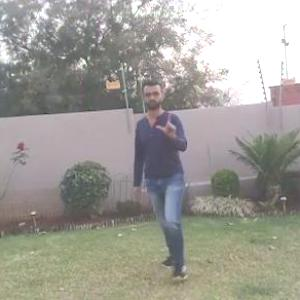land_hand: (154, 105, 178, 138)
